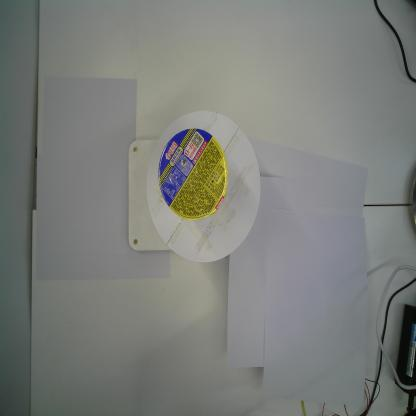Instant Noodles: (157, 128, 228, 221)
